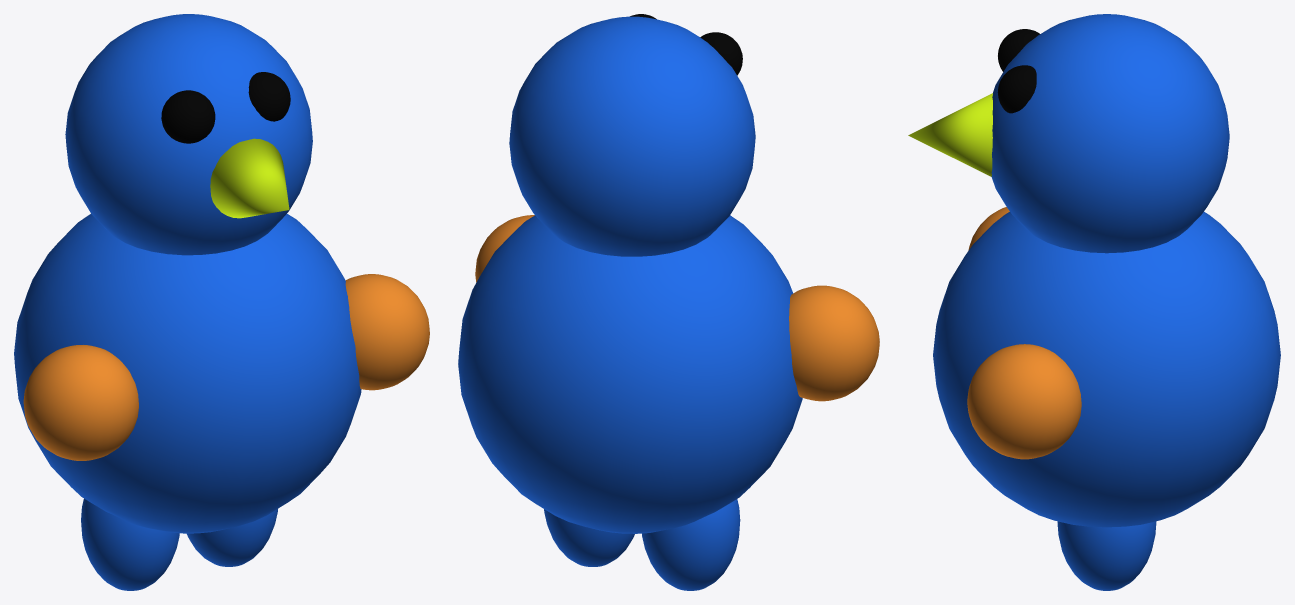
The model's file is penguin.glb.
The picture shows the model from 3 angles, left to right: view 1: azimuth 30°, elevation 25°; view 2: azimuth 150°, elevation 25°; view 3: azimuth 270°, elevation 25°; orthographic projection.
Visible parts, largest first — view 1: Sphere; view 2: Sphere; view 3: Sphere.
Boxes of the visible parts, x1,y1,x2,y2 form: Sphere: (14, 14, 429, 590); Sphere: (458, 14, 879, 590); Sphere: (908, 14, 1280, 590).
Size of the model in its own units: 0.924 by 1.24 by 0.7699.
